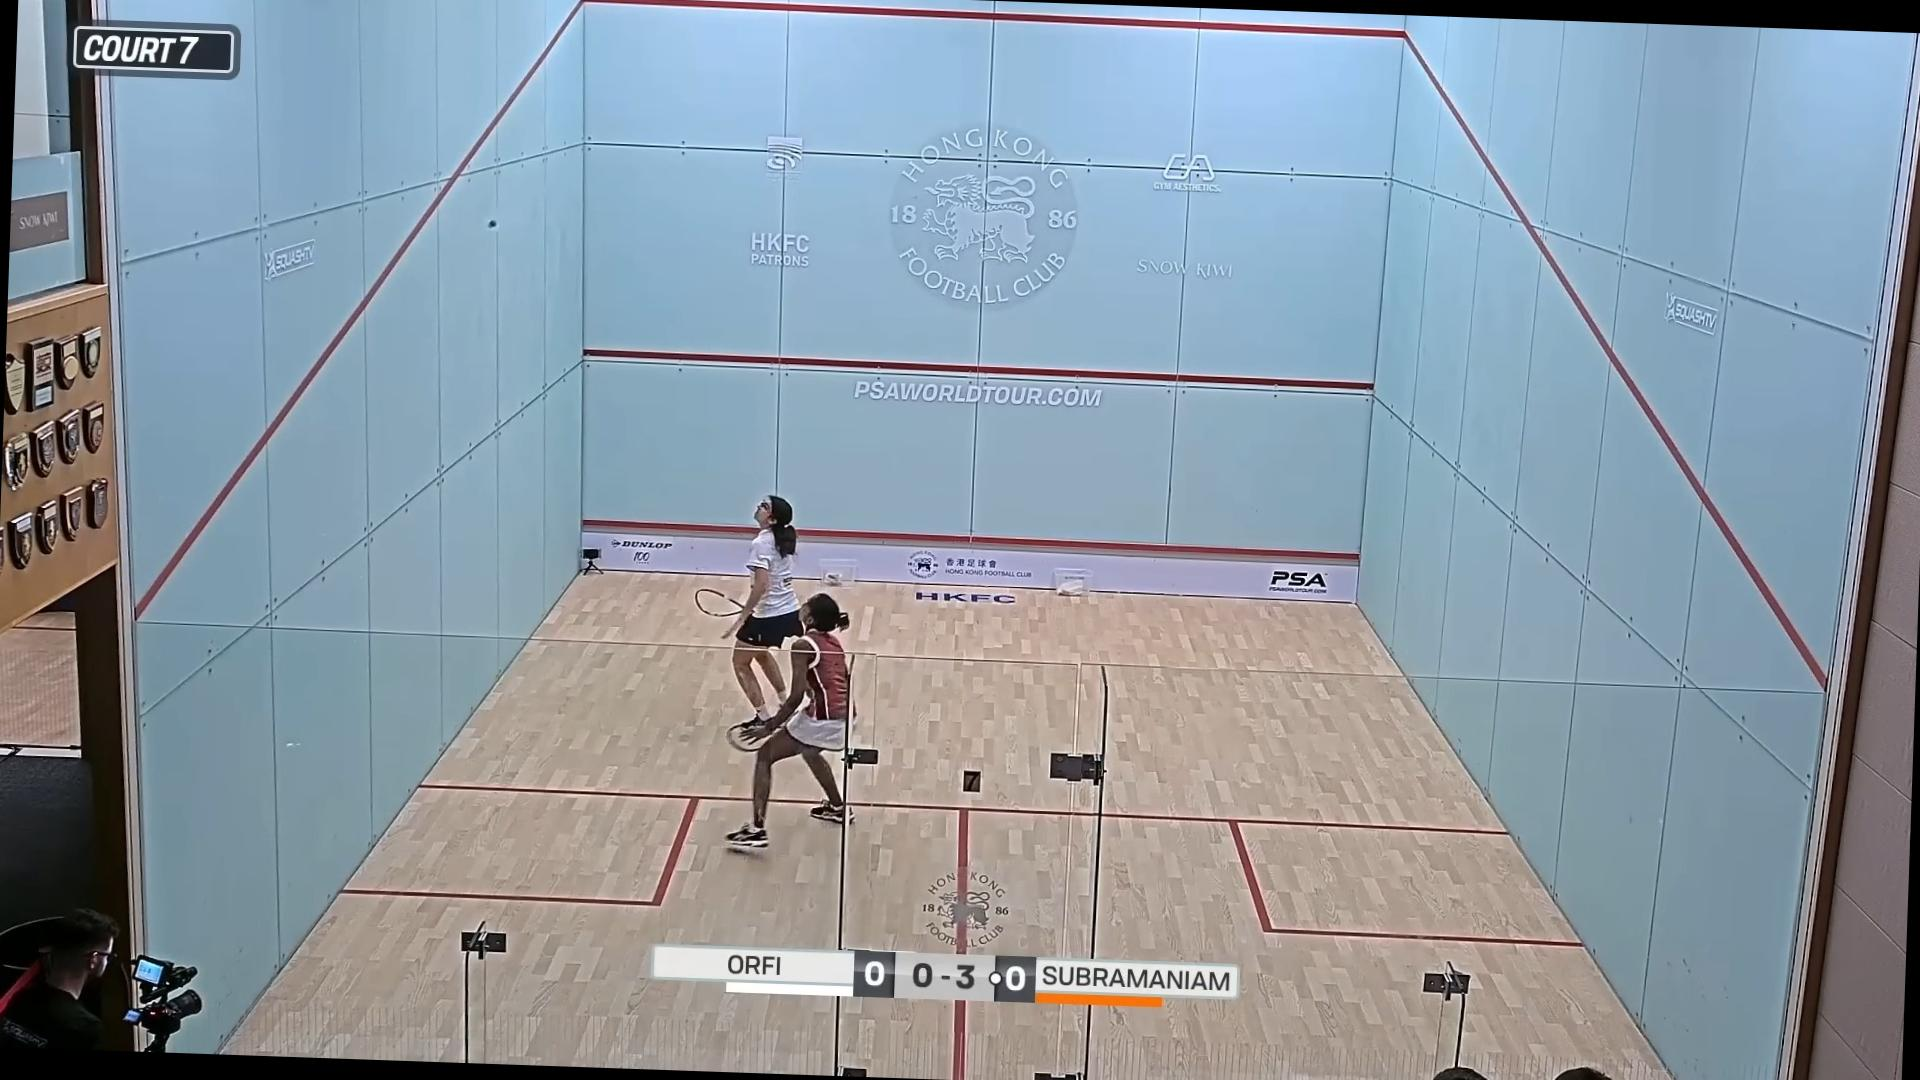Squash-Ball: (477, 208, 504, 247)
